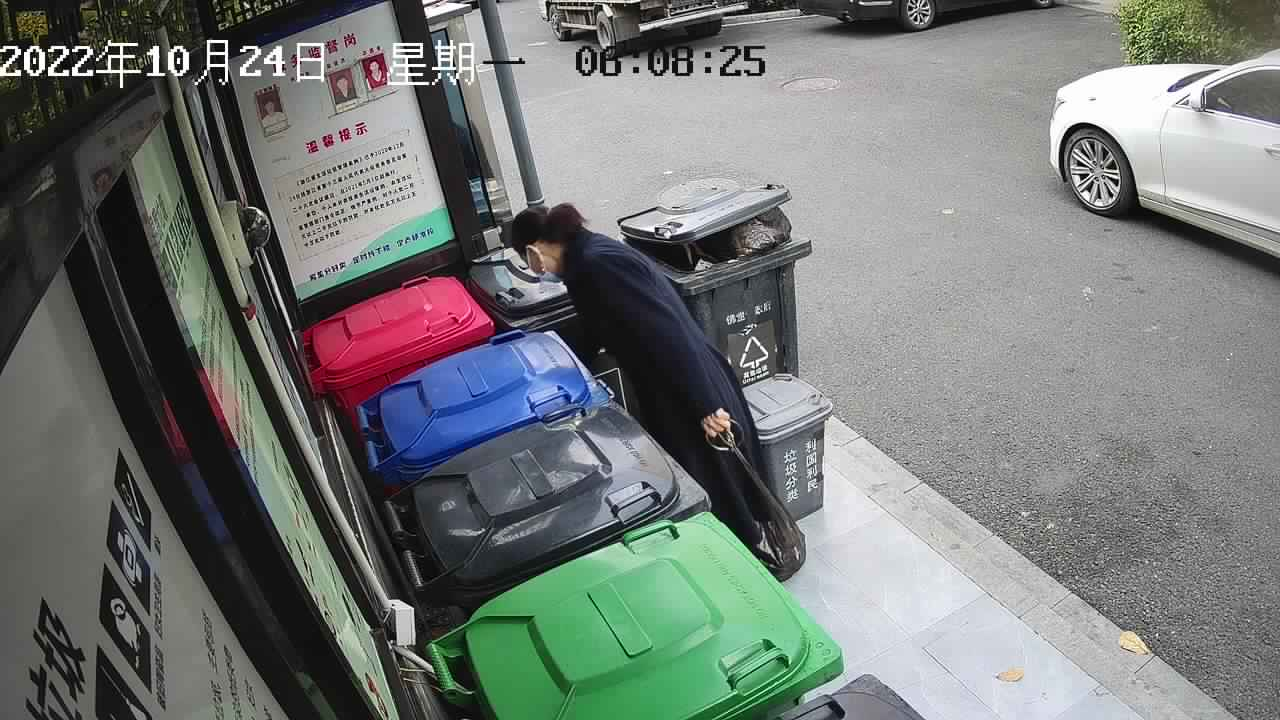garbage-bag: (701, 419, 811, 587)
person: (502, 197, 785, 588)
